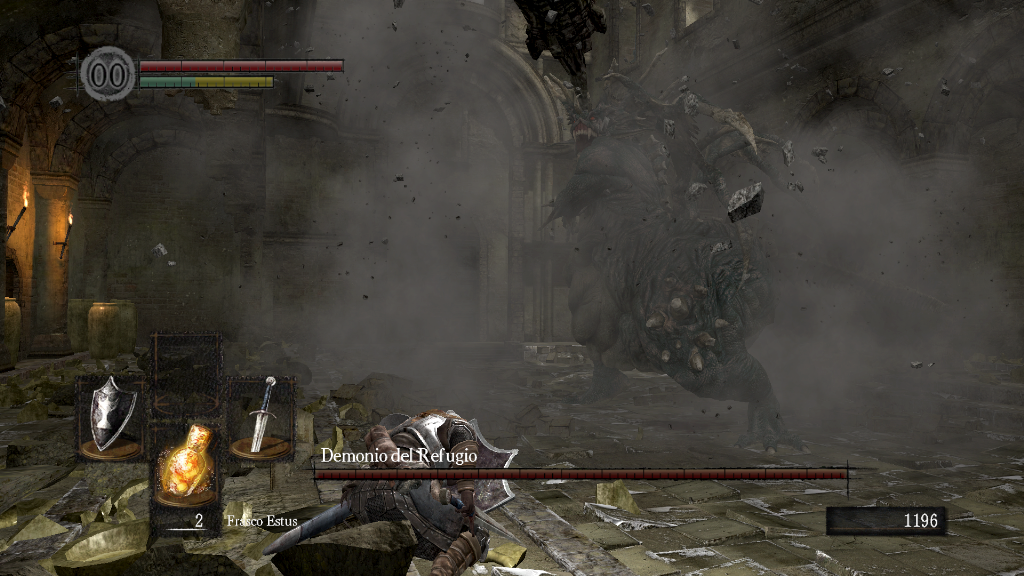asylumDemon: (539, 71, 801, 456)
bossHP: (314, 469, 847, 479)
health: (138, 58, 343, 71)
humanity: (80, 45, 136, 102)
player: (340, 410, 520, 576)
souls: (825, 506, 945, 536)
stamina: (138, 74, 274, 88)
